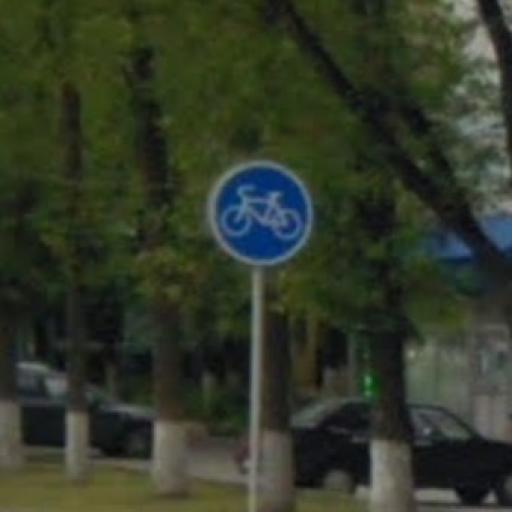traffic_sign: (207, 157, 319, 272)
